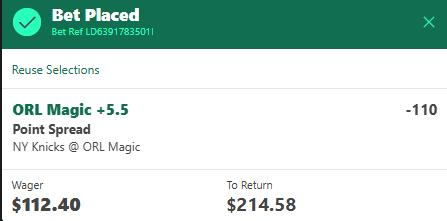game: (11, 140, 143, 156)
odds: (405, 101, 439, 119)
payout: (226, 194, 297, 214)
wager: (12, 194, 81, 215)
